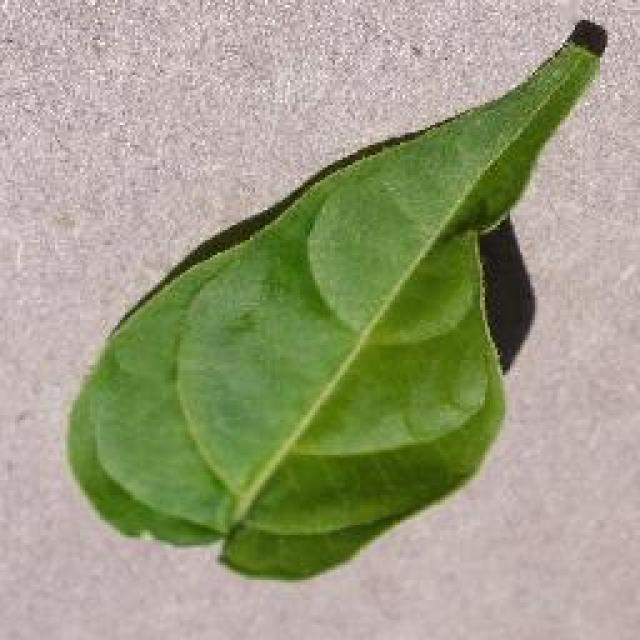Leaf: (53, 8, 590, 574)
